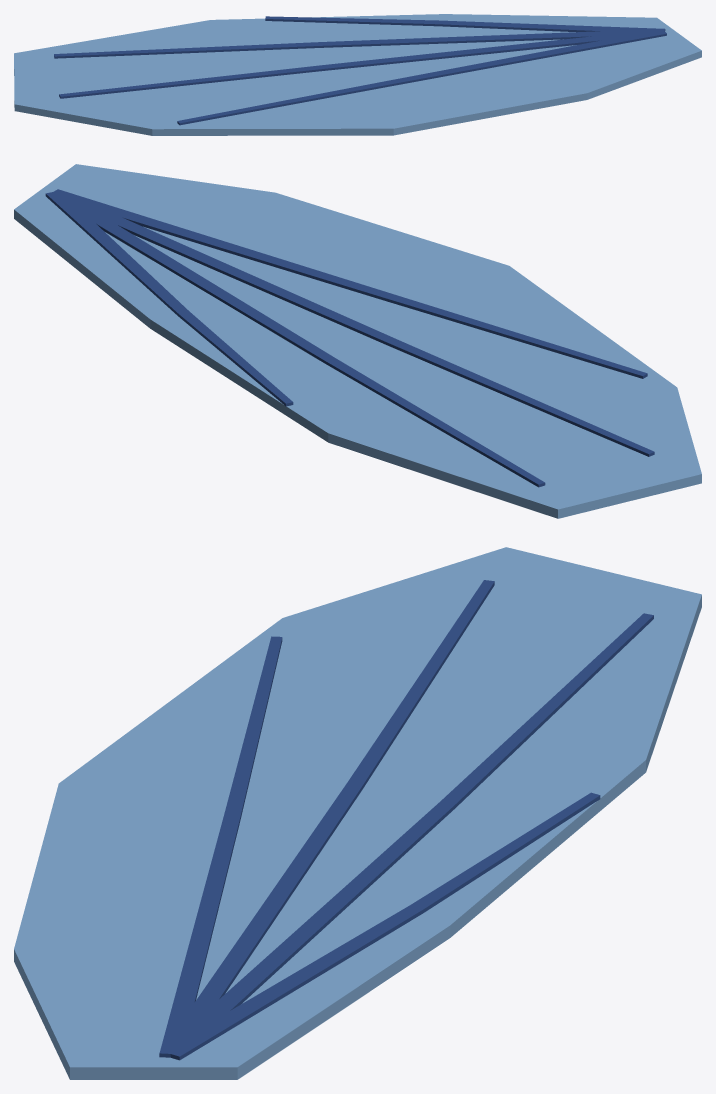
File: flyfish_wing_l.obj
The picture shows the model from 3 angles, top to bottom: view 1: azimuth 30°, elevation 25°; view 2: azimuth 150°, elevation 25°; view 3: azimuth 270°, elevation 25°; orthographic projection. The views are drawn at different scales.
Parts seen in each view (by area): view 1: wing; view 2: wing; view 3: wing.
Part boxes in pixels (box(x1,y1,x2,y2)): wing: box(14, 14, 701, 135); wing: box(14, 164, 701, 518); wing: box(14, 547, 701, 1079).
Bounding box in the file's own units: 2.2 × 0.0325 × 1.23.
